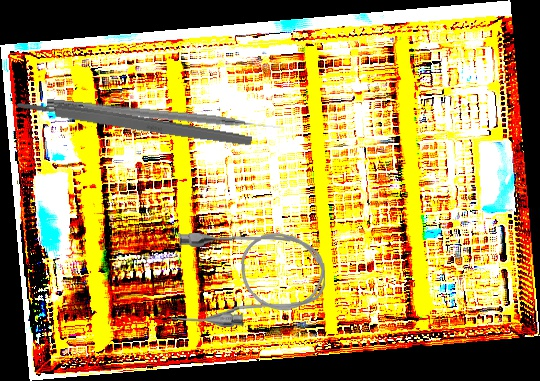Cannula: (168, 228, 327, 329)
Pusher: (45, 97, 282, 136)
Scalpel Handle: (16, 96, 253, 149)
